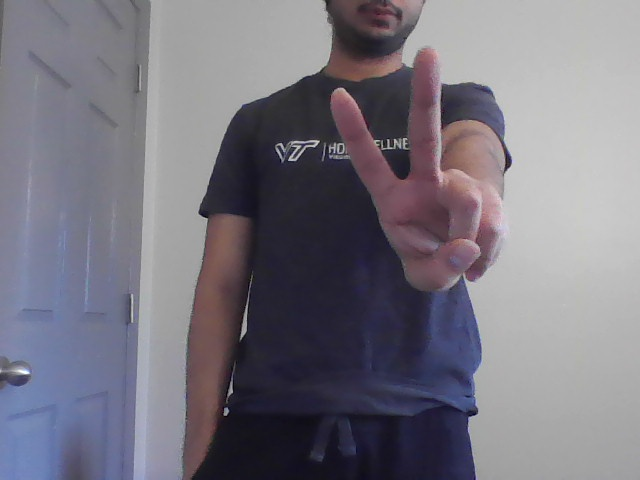two: (326, 45, 508, 294)
